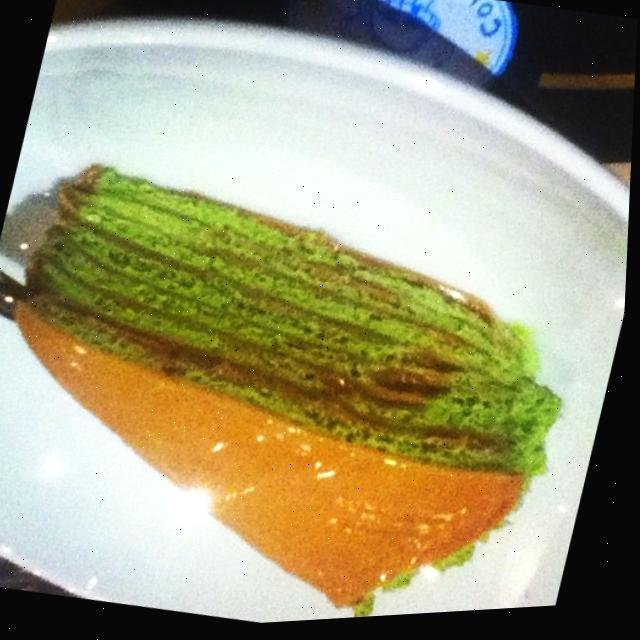蛋糕甜品: (0, 92, 617, 640)
